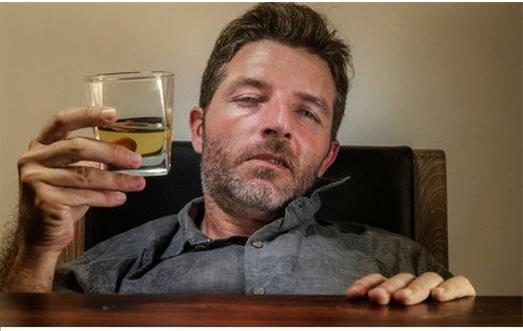Drunk: (215, 47, 330, 200)
